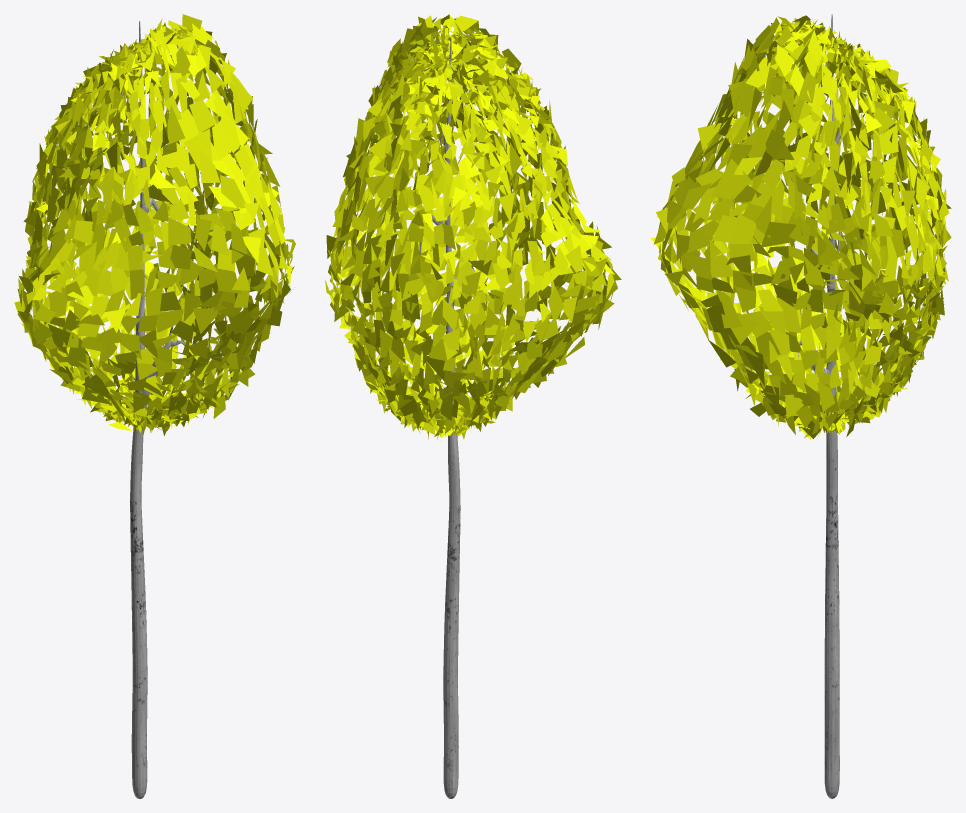
File: Leaves32.fbx
3 renders of one model, left to right at view 1: azimuth 30°, elevation 25°; view 2: azimuth 150°, elevation 25°; view 3: azimuth 270°, elevation 25°, orthographic. The views are drawn at different scales.
Parts seen in each view (by area): view 1: Leaves32; view 2: Leaves32; view 3: Leaves32.
Part boxes in pixels (x1,y1,x2,y2): Leaves32: (14, 14, 295, 798); Leaves32: (325, 14, 621, 798); Leaves32: (650, 14, 951, 798).
Bounding box in the file's own units: 859 × 2587 × 896.
2 materials, 1 textured.
